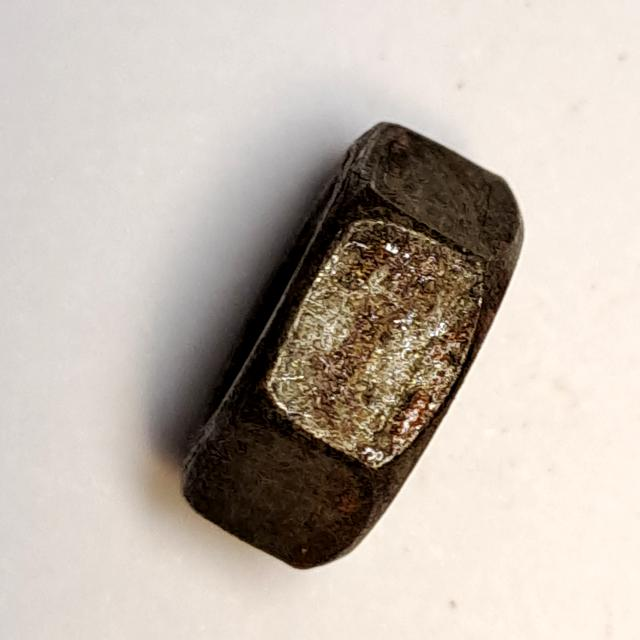Side_Rust: (169, 106, 539, 584)
